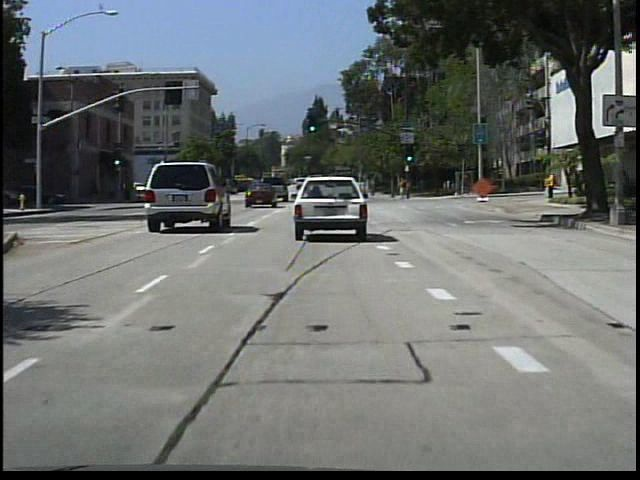person: (398, 173, 413, 204)
